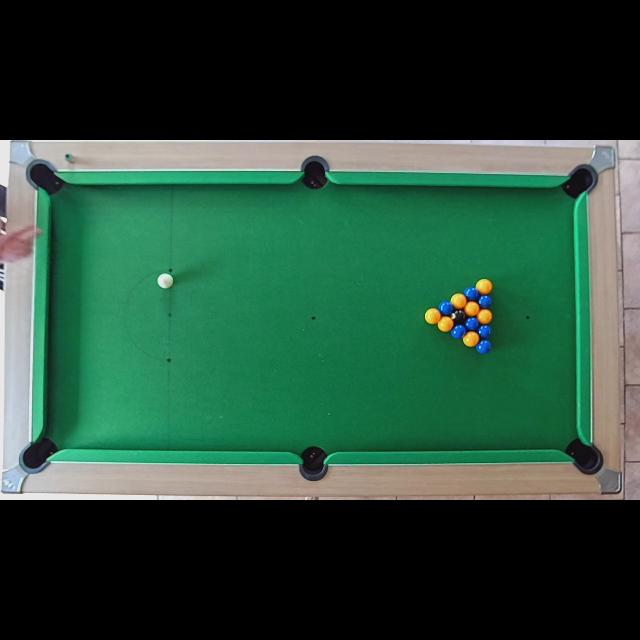Ball: (438, 316, 454, 332), (463, 331, 479, 347), (476, 279, 492, 295), (450, 293, 466, 309), (158, 273, 174, 289), (426, 308, 440, 324), (478, 310, 492, 324), (465, 302, 479, 316), (438, 301, 452, 315), (464, 287, 478, 301), (478, 295, 492, 309), (478, 325, 492, 339), (476, 339, 490, 353), (451, 325, 465, 339), (452, 310, 466, 324), (466, 318, 478, 330)
